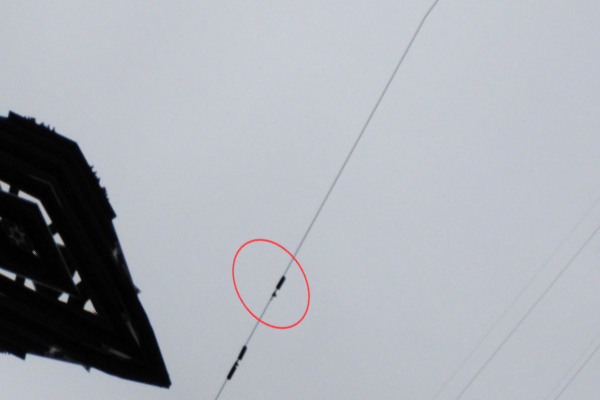damper: (224, 344, 247, 382)
damper_defect: (266, 274, 287, 304)
